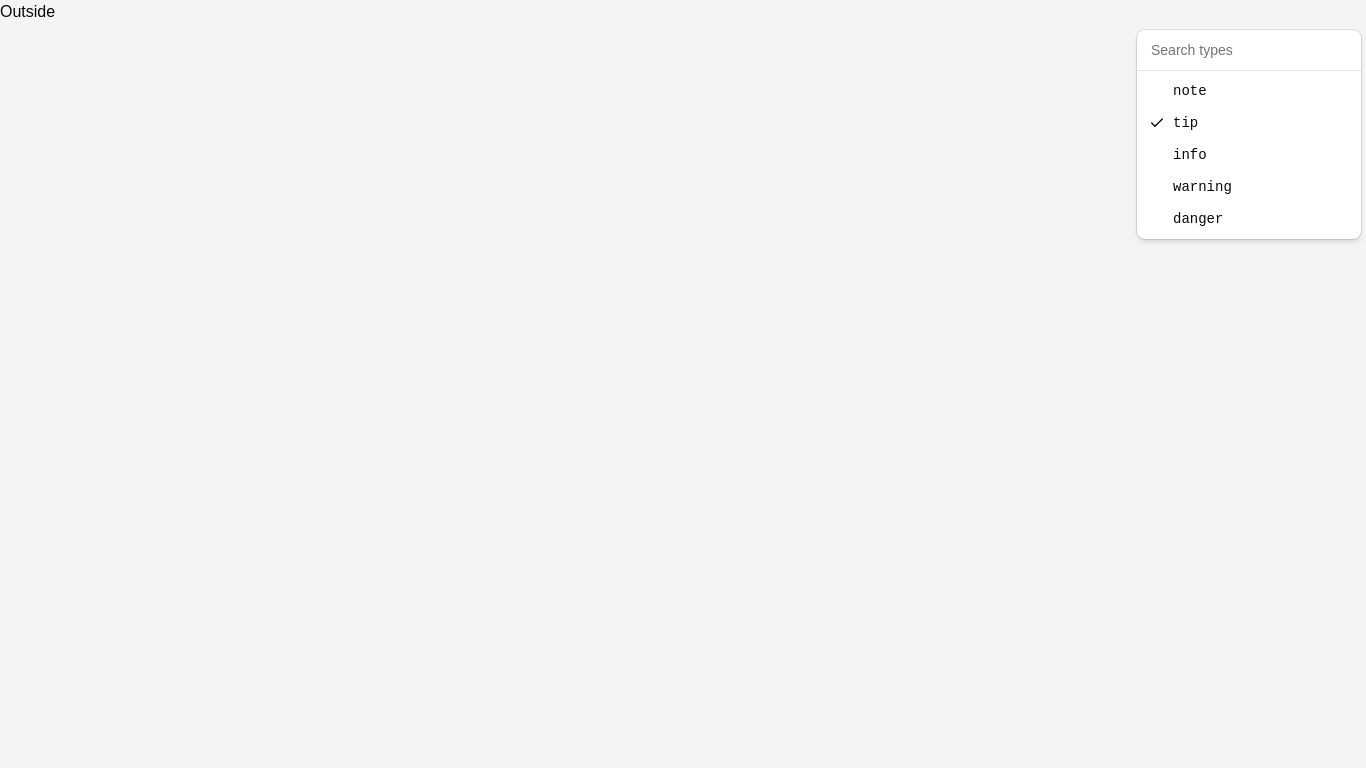
Test: EditorCalloutTypePicker › cancels with Escape, applying nothing and returning focus
Type "da" into the dropdown named "Search callout types" at (1249, 50), box [1141,34,1357,66]
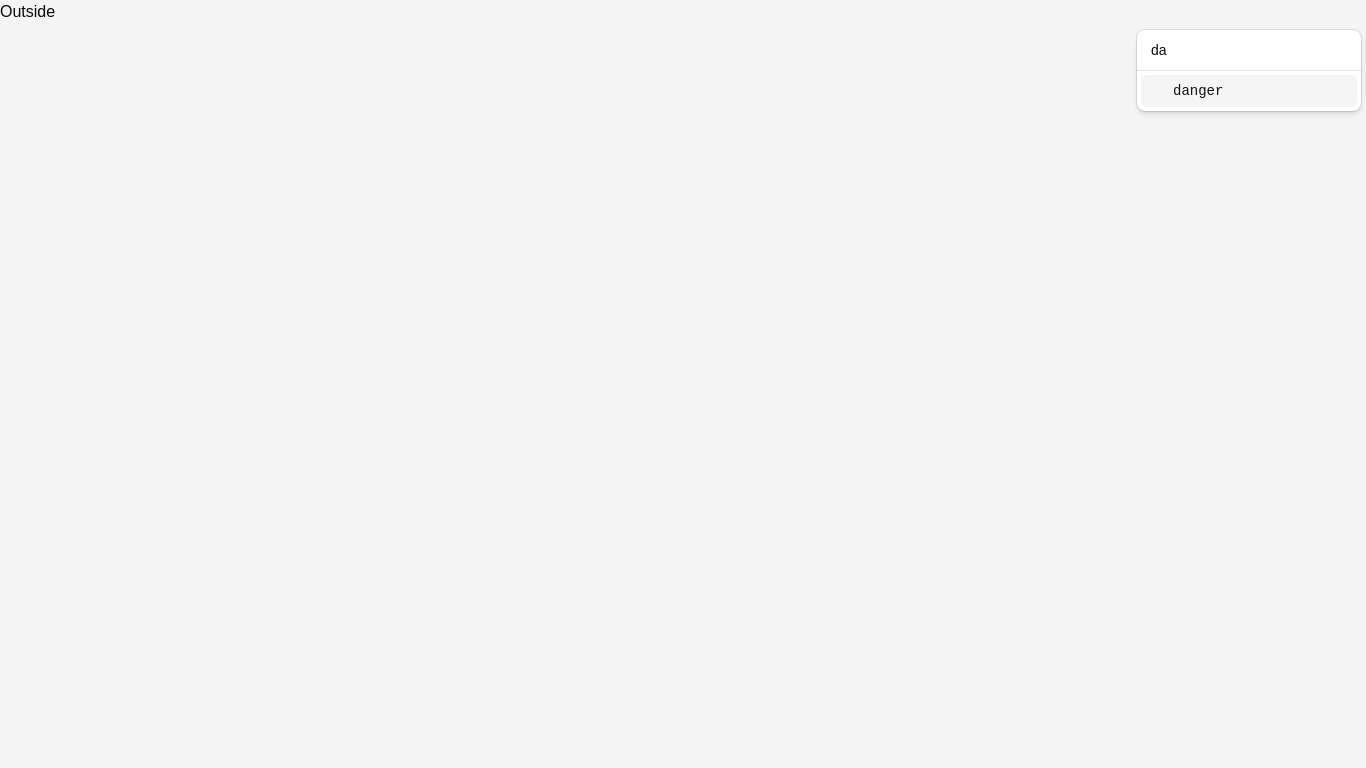
Press Escape
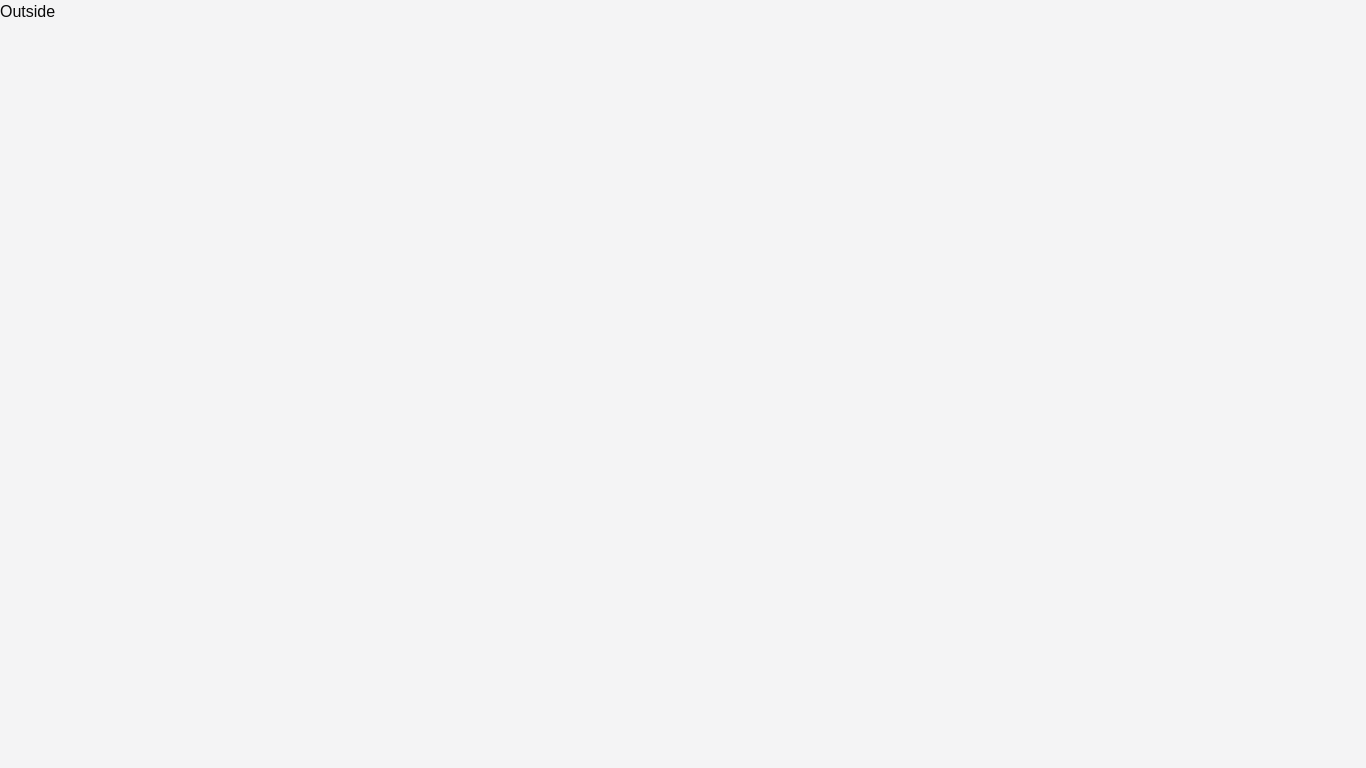
Result: the dialog with test id "editor-callout-type-picker" is gone
